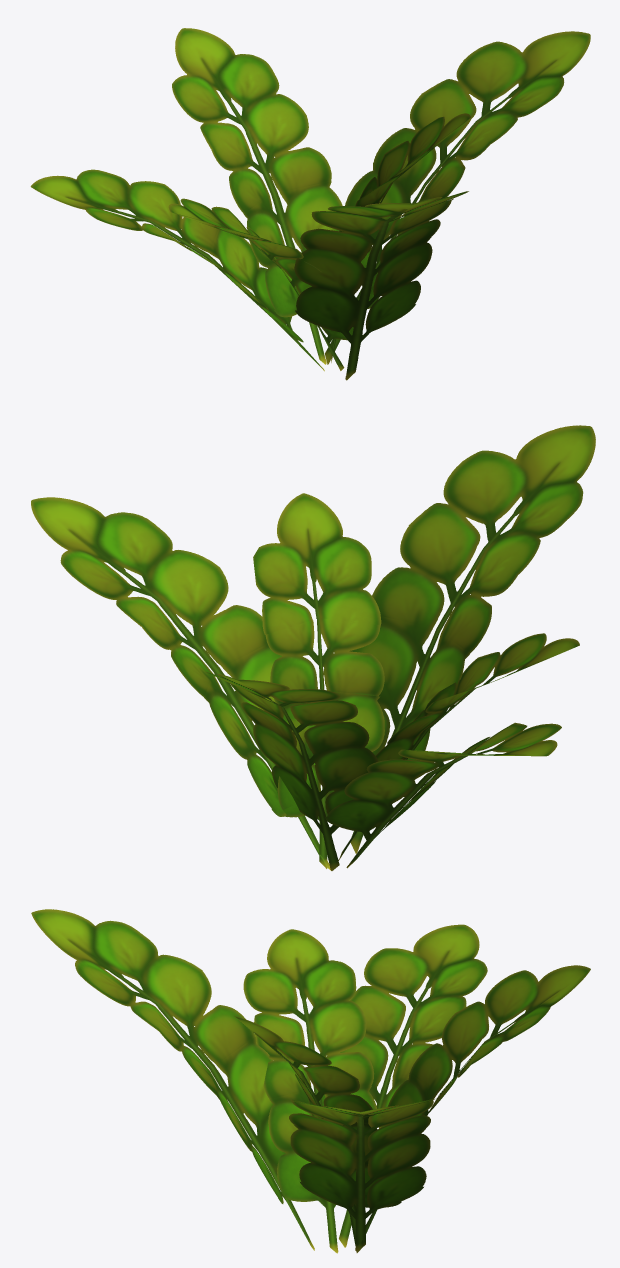
File: SM_SmallGroundCover.fbx
The picture shows the model from 3 angles, top to bottom: view 1: azimuth 30°, elevation 25°; view 2: azimuth 150°, elevation 25°; view 3: azimuth 270°, elevation 25°; orthographic projection. The views are drawn at different scales.
Parts seen in each view (by area): view 1: SM_SmallGroundCover; view 2: SM_SmallGroundCover; view 3: SM_SmallGroundCover.
Boxes of the visible parts, x1=… form: SM_SmallGroundCover: x1=30, y1=28, x2=590, y2=380; SM_SmallGroundCover: x1=31, y1=425, x2=595, y2=870; SM_SmallGroundCover: x1=31, y1=909, x2=590, y2=1253.
Size of the model in its own units: 41.31 by 38.42 by 22.46.
Materials: 1 (1 with a texture image).
